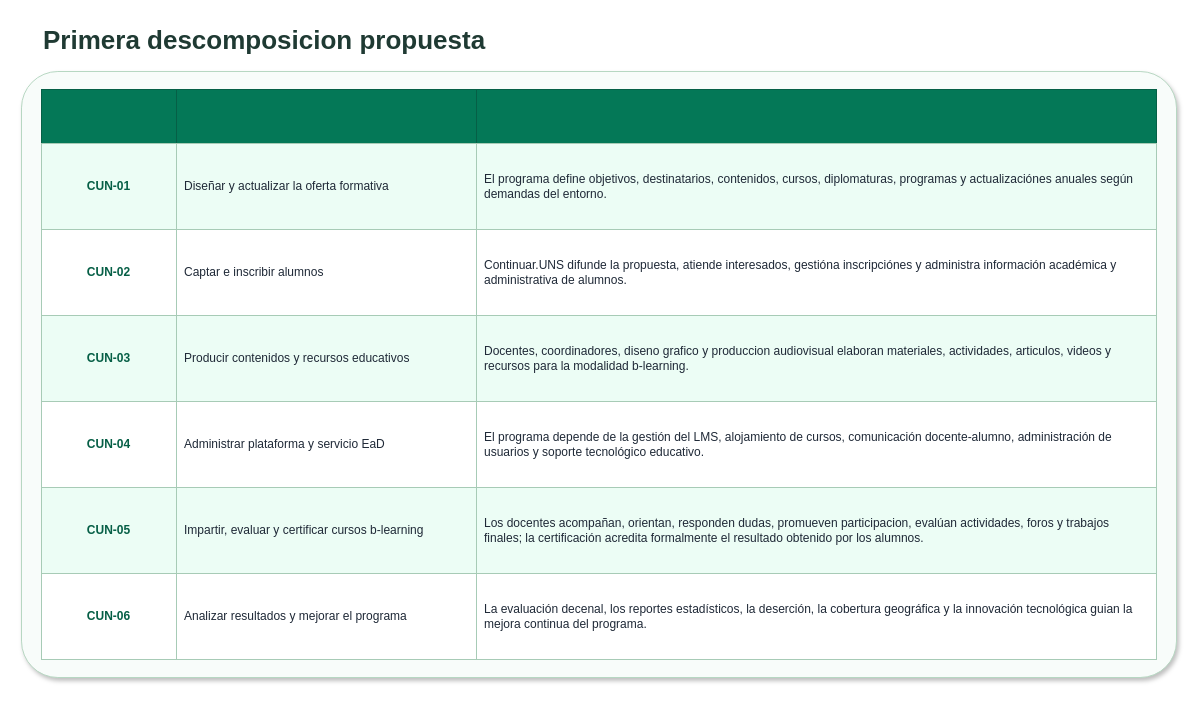
This 1200x702 diagram has some shape labels left out. The centre of each missing label's shape, as x and y in pixels:
ID: (108,116)
Justificacion en el caso: (816,116)
Macroproceso de negocio: (326,116)
